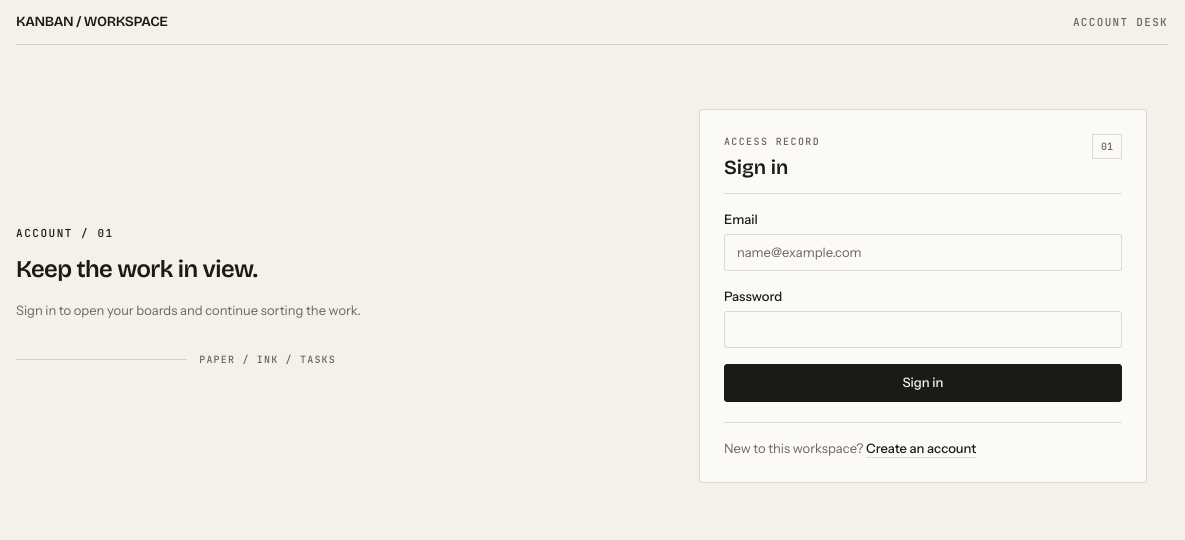
Scenario: client flows › shows login validation and does not submit invalid credentials
Type "invalid-email" into the field labelled "Email" at (923, 252), box [724, 234, 1122, 271]
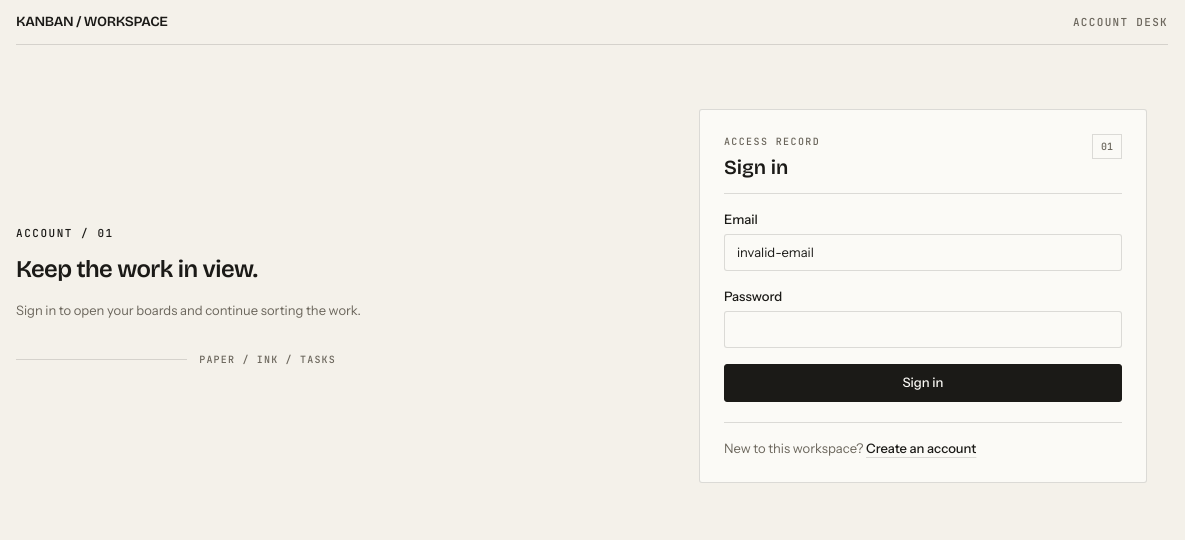
Click the button "Sign in" at (923, 383), box [724, 364, 1122, 402]
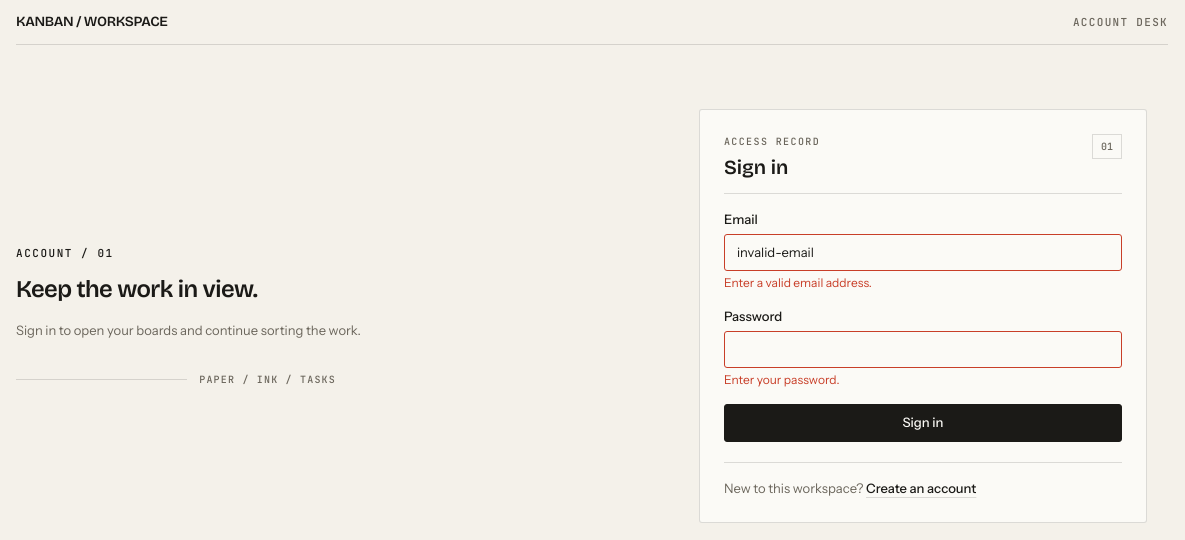
Expected: the text "Enter a valid email address." is shown, [724, 275, 872, 290]
